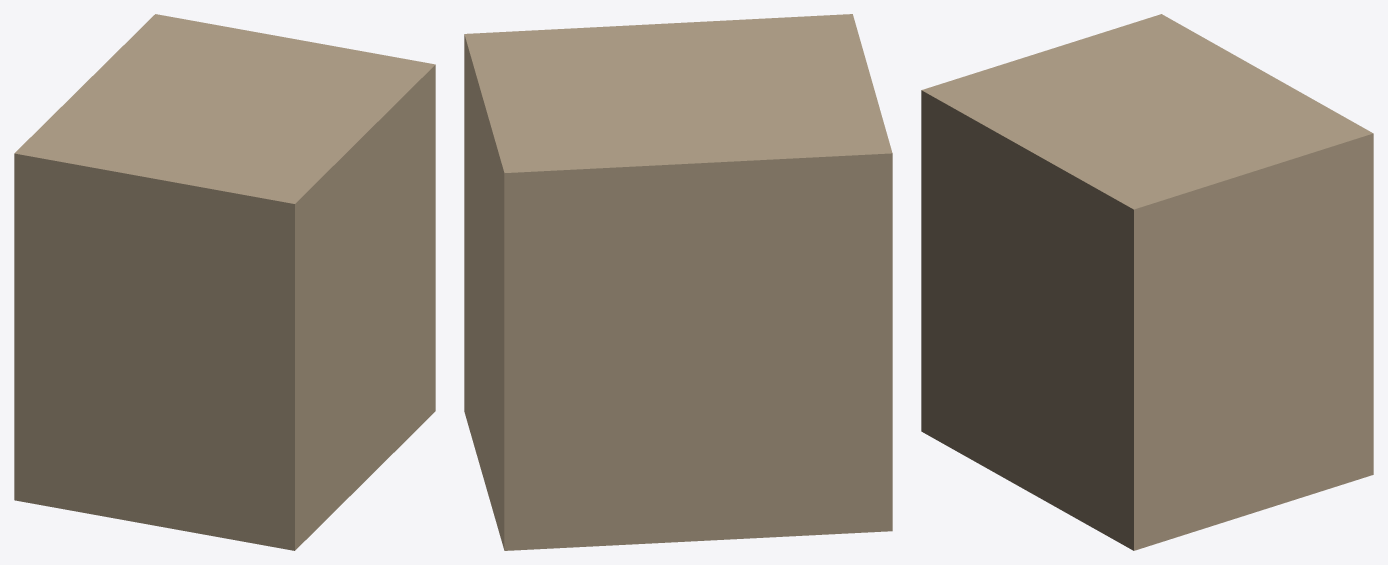
Rendered from bld_105794384.dae.
The picture shows the model from 3 angles, left to right: view 1: azimuth 30°, elevation 25°; view 2: azimuth 150°, elevation 25°; view 3: azimuth 270°, elevation 25°; orthographic projection. The views are drawn at different scales.
Parts seen in each view (by area): view 1: bld_105794384; view 2: bld_105794384; view 3: bld_105794384.
Boxes of the visible parts, bbox=[...] form: bld_105794384: bbox=[14, 14, 435, 550]; bld_105794384: bbox=[464, 14, 892, 550]; bld_105794384: bbox=[921, 14, 1373, 550].
Size of the model in its own units: 9.83 by 9.6 by 8.
